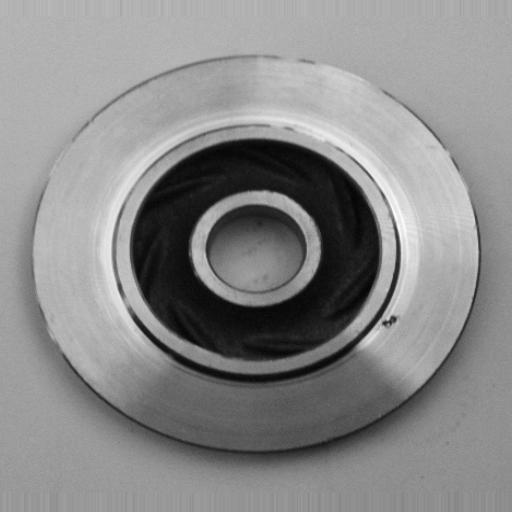crack: (370, 303, 407, 337)
scratch: (250, 106, 346, 158)
unpolished_casting: (28, 51, 491, 456)
